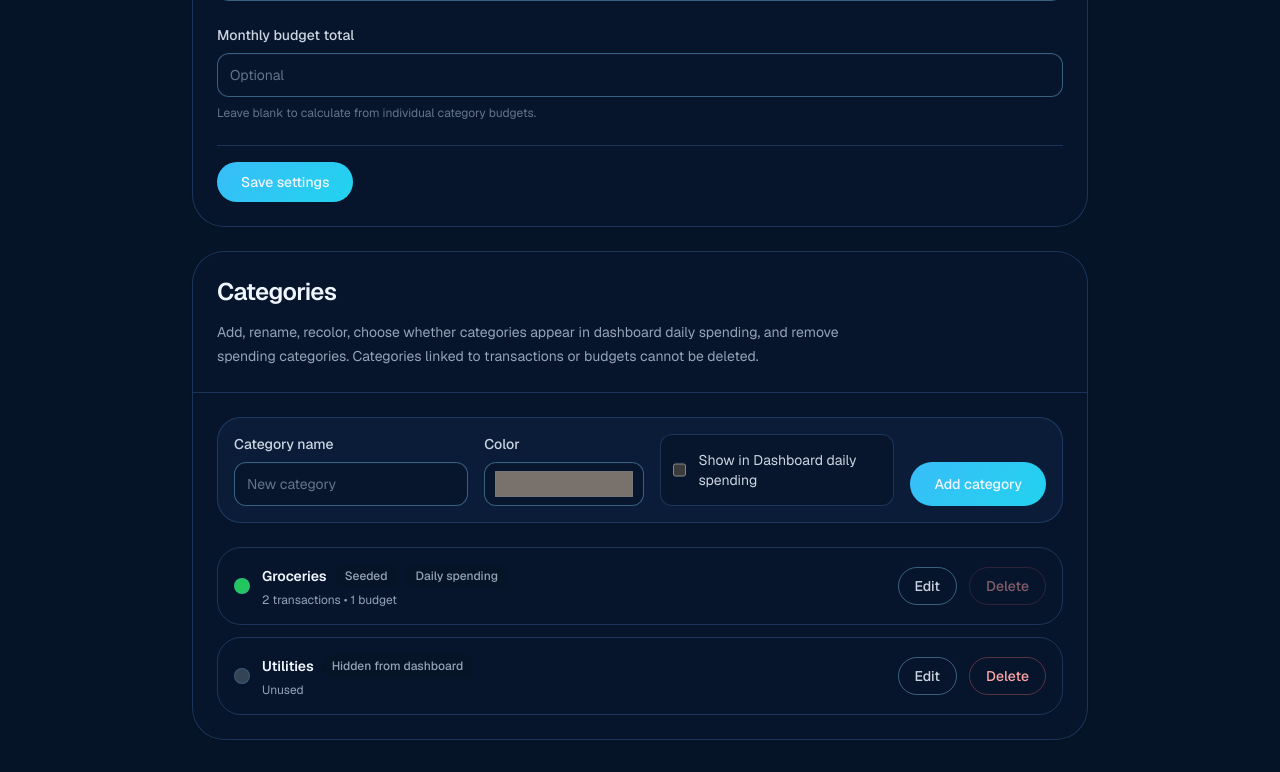
Test case: [Component] settings page › should update an existing category when editing is submitted
(page scrolled)
Click the button "Edit" in the row of "Hidden from dashboard": (927, 676) [898,657,957,695]
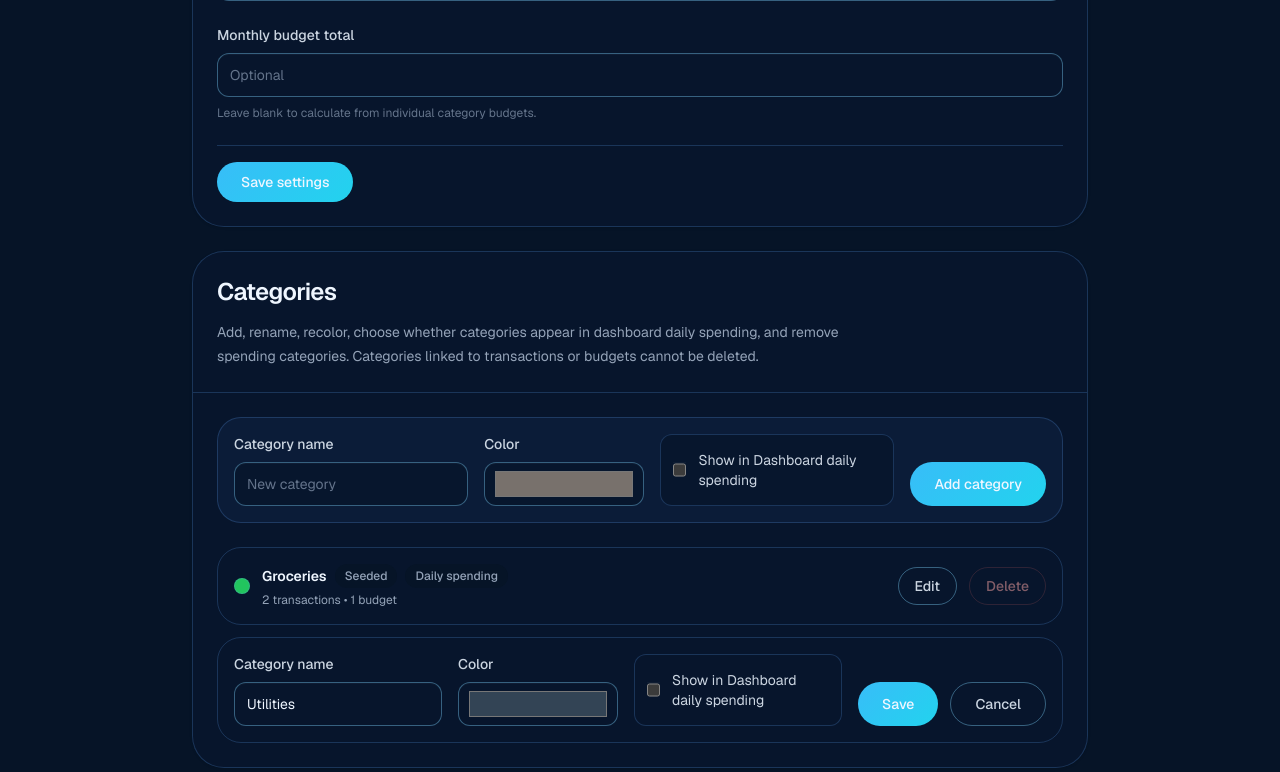
Replace the text in the field showing "Utilities" below "2 transactions • 1 budget" with "Bills": (338, 704) [234,682,442,726]
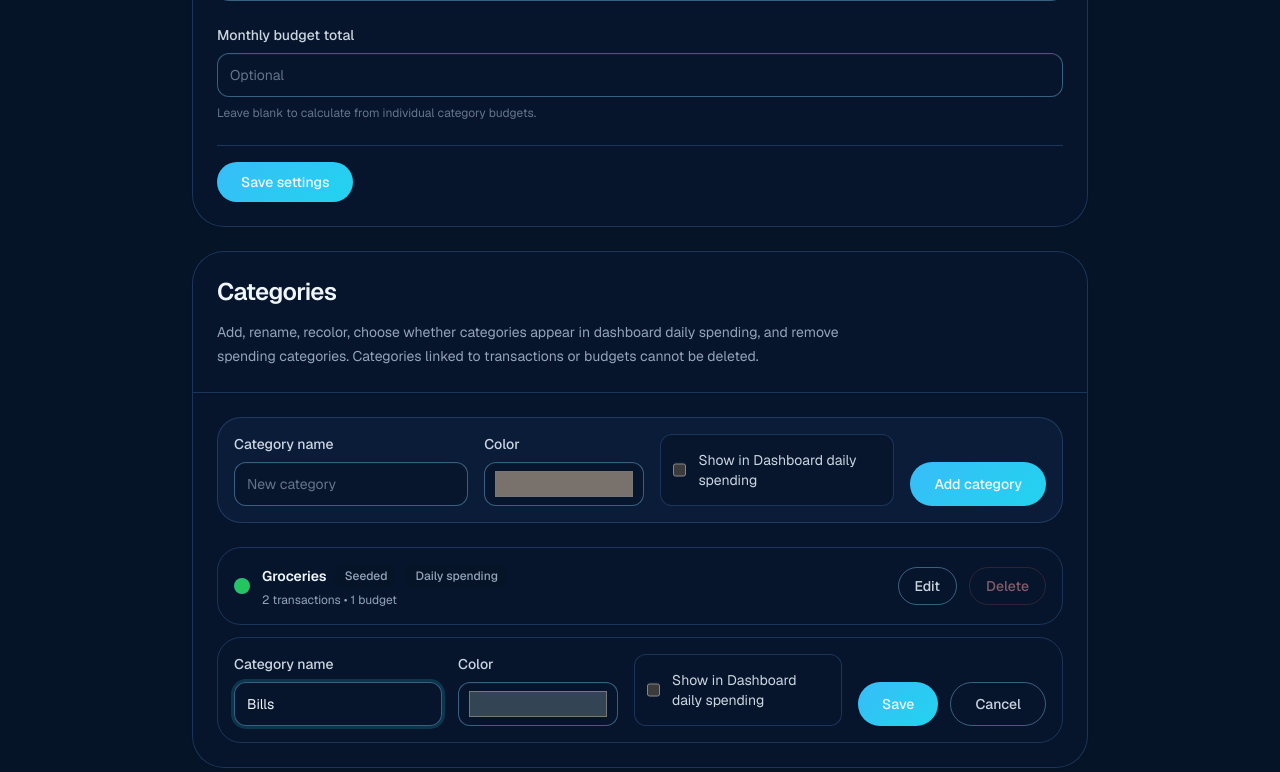
Click the button "Save": (898, 704) [858,682,938,726]
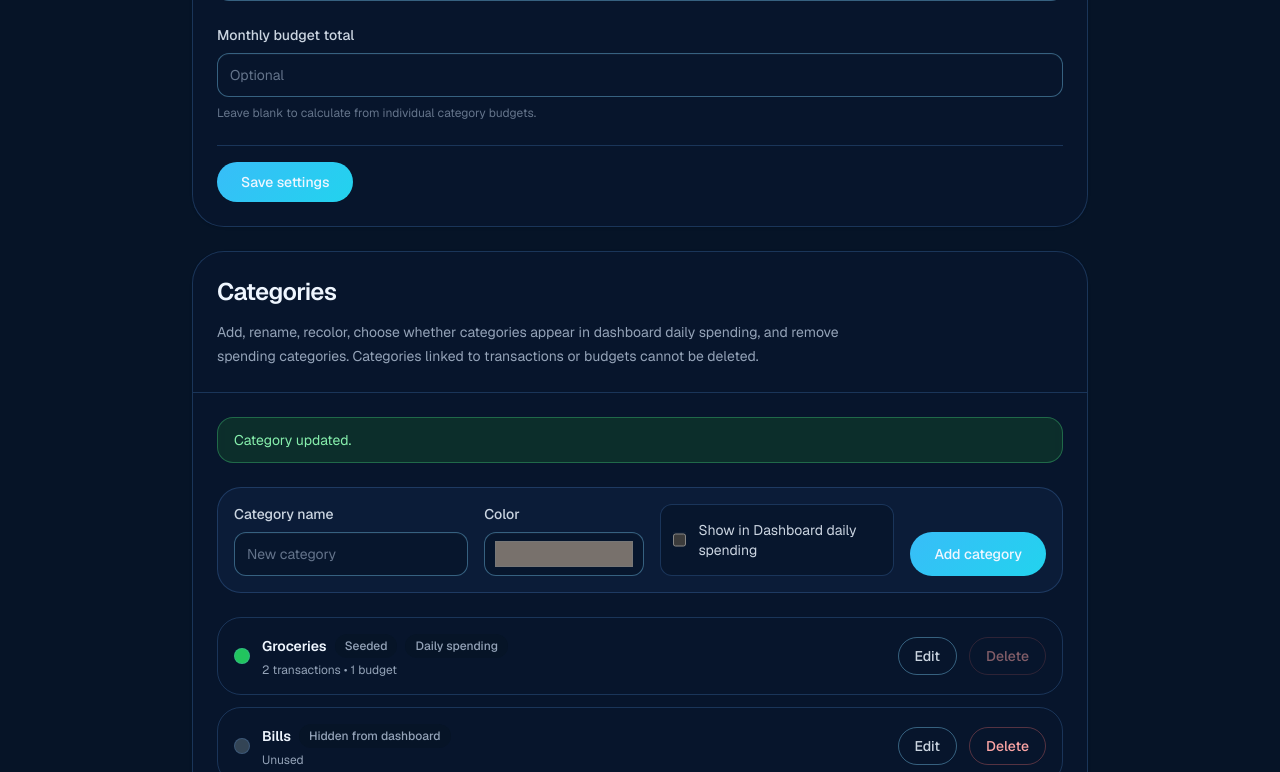
Now the text "Category updated." is shown, box [217,417,1063,463]
Now the text "Bills" is shown, box [262,726,291,746]
